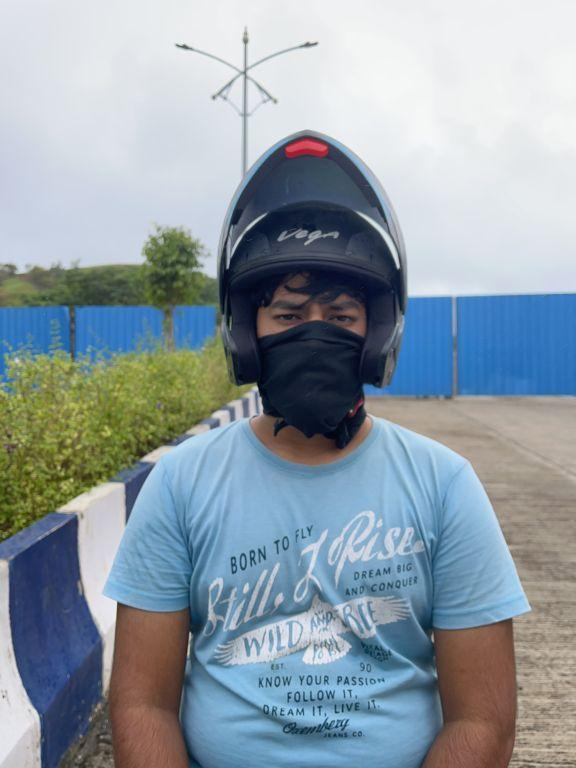helmet: (205, 120, 413, 443)
